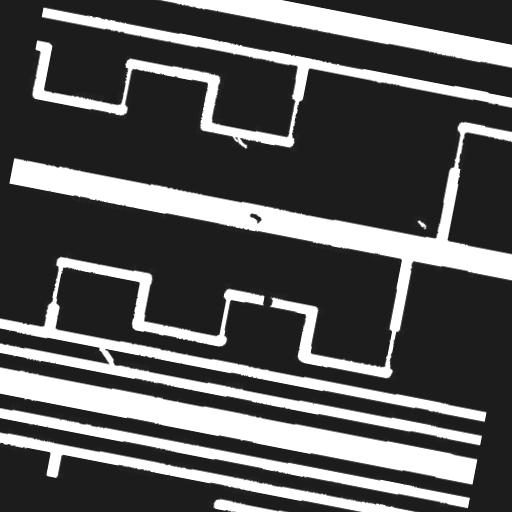copper: (240, 204, 270, 232)
mousebite: (220, 124, 258, 158)
open: (88, 338, 126, 376)
pin-hole: (407, 211, 436, 238)
short: (252, 284, 282, 322)
